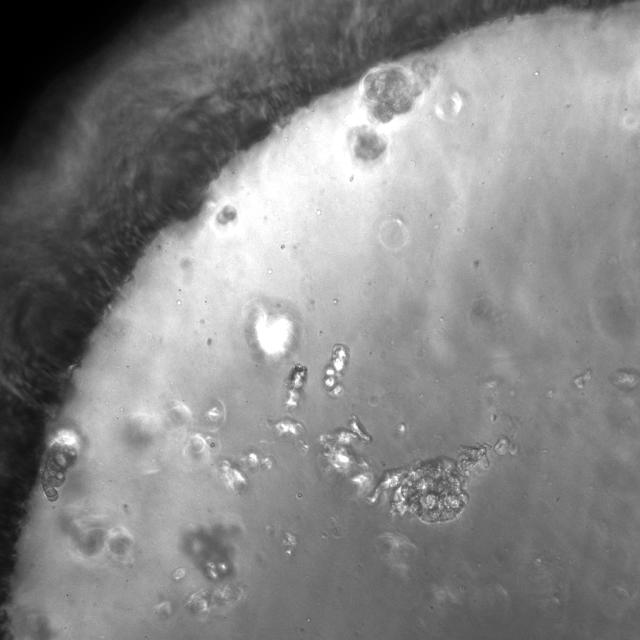organoid: (365, 435, 516, 523), (319, 415, 374, 494), (360, 65, 428, 123), (181, 525, 238, 581), (39, 429, 81, 502), (218, 452, 272, 491), (323, 344, 349, 398), (348, 125, 386, 160), (286, 363, 307, 408), (609, 368, 639, 391), (268, 416, 301, 435), (216, 205, 237, 225), (574, 369, 591, 389)
